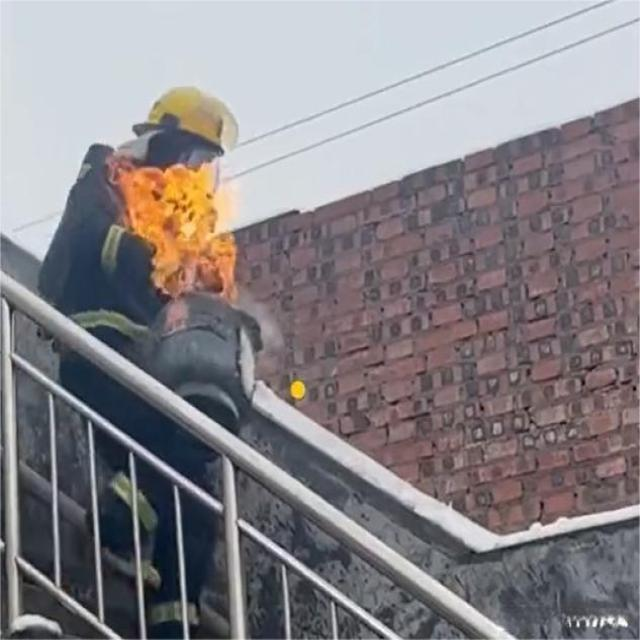Fire: (111, 154, 238, 298)
